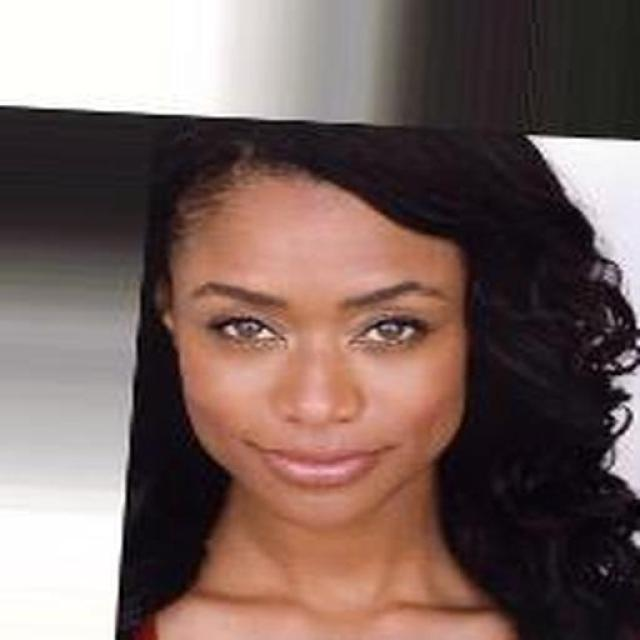bareface: (163, 204, 458, 506)
